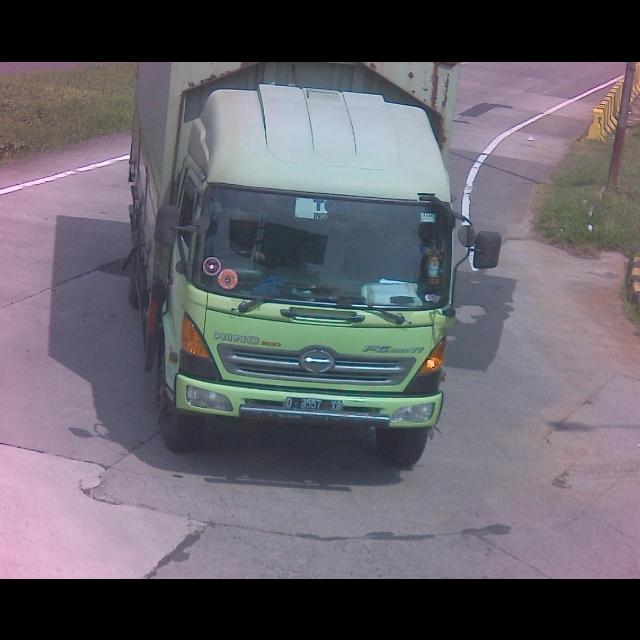plate: (285, 393, 345, 415)
